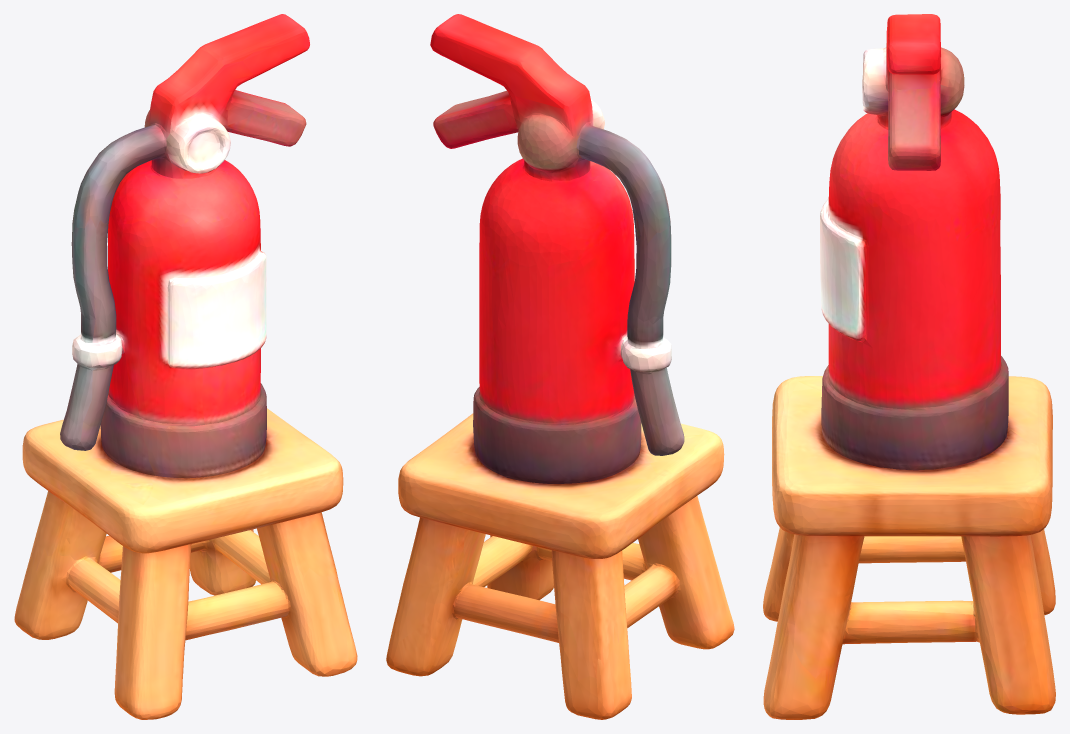
File: extinguisher.glb
3 renders of one model, left to right at view 1: azimuth 30°, elevation 25°; view 2: azimuth 150°, elevation 25°; view 3: azimuth 270°, elevation 25°, orthographic. The views are drawn at different scales.
Parts seen in each view (by area): view 1: tripo_mesh_413578fd-e24b-4ddb-af94-aebac90b6e32; view 2: tripo_mesh_413578fd-e24b-4ddb-af94-aebac90b6e32; view 3: tripo_mesh_413578fd-e24b-4ddb-af94-aebac90b6e32.
Boxes of the visible parts, left/top/right/bottom form: tripo_mesh_413578fd-e24b-4ddb-af94-aebac90b6e32: left=14, top=14, right=357, bottom=719; tripo_mesh_413578fd-e24b-4ddb-af94-aebac90b6e32: left=386, top=14, right=734, bottom=719; tripo_mesh_413578fd-e24b-4ddb-af94-aebac90b6e32: left=763, top=14, right=1055, bottom=719.
Bounding box in the file's own units: 0.4134 × 1 × 0.3901.
1 material, 1 textured.
